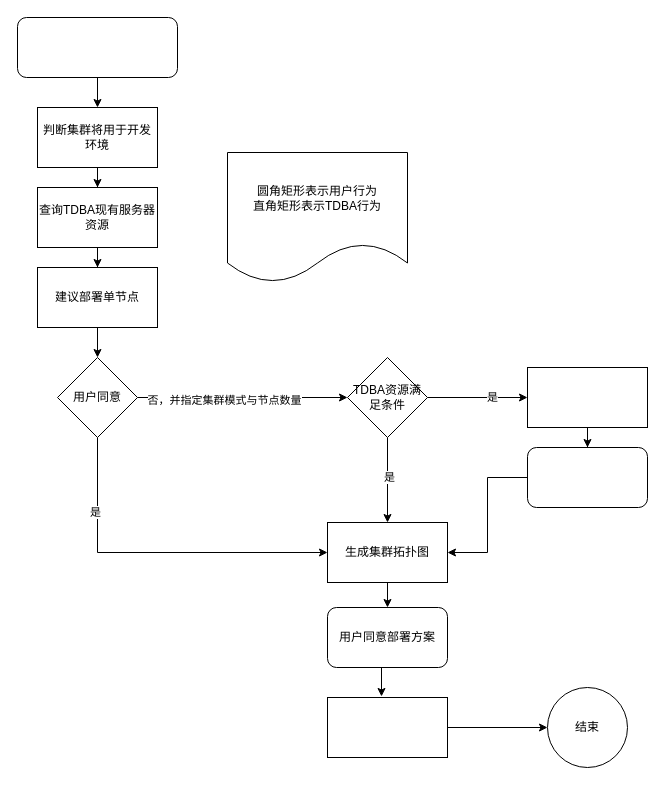
Image size: 665x785. Some labels were removed from this diagram. The centre of each missing label's shape, as x and y in pixels:
"建议用户增加服务器资源，主要是数量要求。例如分布式集群至少需要三台服务器" belongs at point (587, 397).
"用户发起数据库部署规划请求" belongs at point (97, 47).
"用户添加主机" belongs at point (587, 477).
"部署开始" belongs at point (387, 727).
